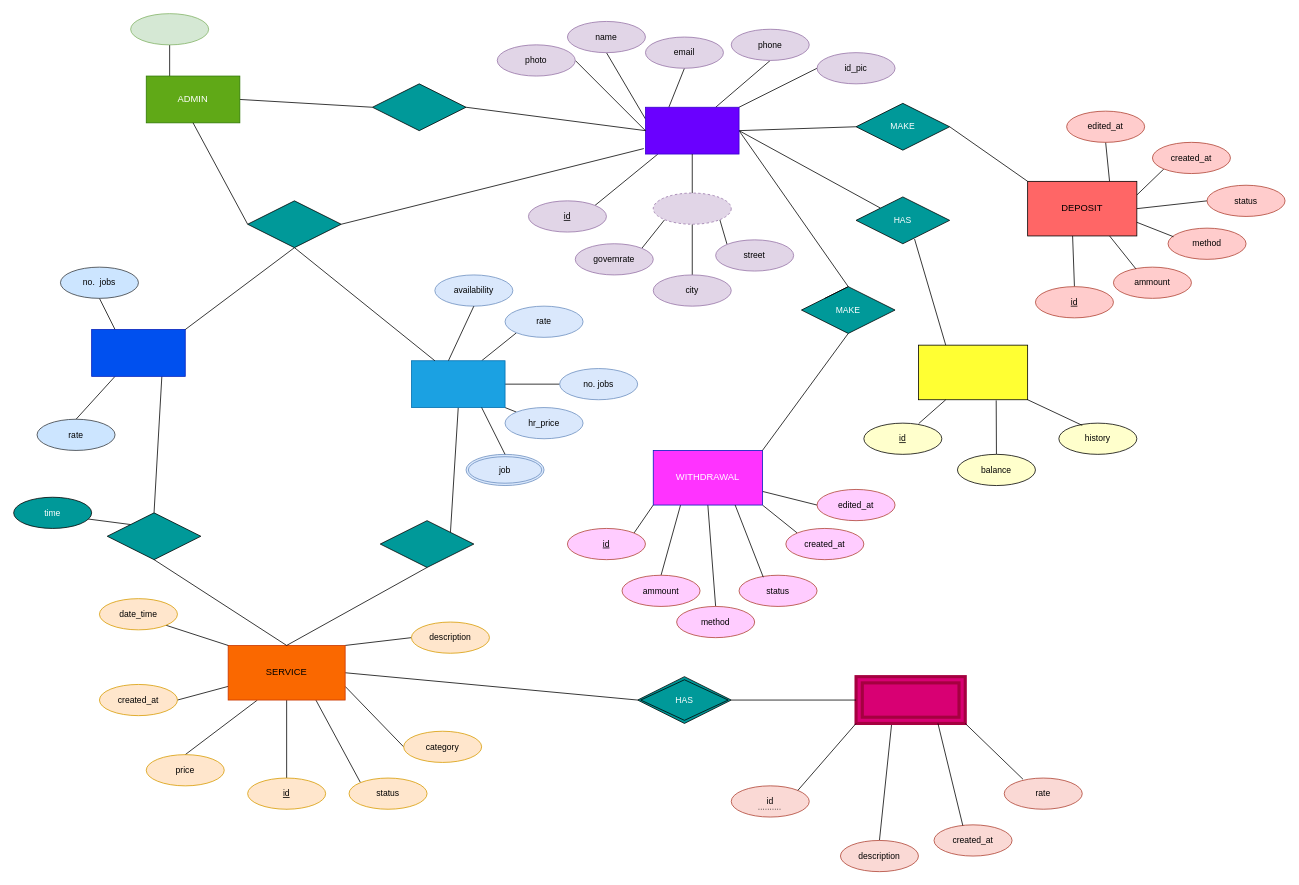
This 1299x885 diagram has some shape labels left out. The box of each missing label's shape, as (x1, y1, x2, y2) in pixels:
ACCEPT: (379, 520, 474, 567)
address: (652, 192, 731, 224)
CLIENT: (91, 329, 185, 376)
CREATE: (106, 512, 201, 560)
IS A: (247, 200, 341, 248)
last_login: (130, 13, 209, 45)
MANAGE: (372, 83, 466, 131)
REVIEW: (854, 675, 966, 725)
SETTER: (411, 360, 505, 408)
USER: (645, 106, 739, 154)
WALLET: (918, 344, 1028, 400)
